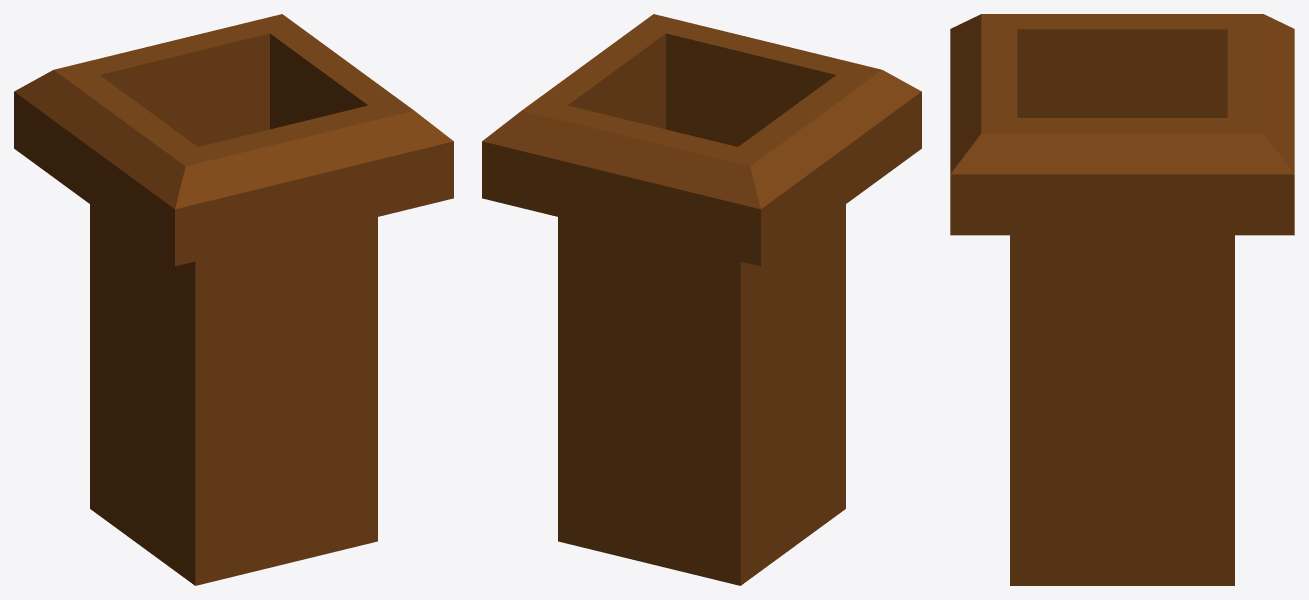
The model's file is Prop_Chimney_02.fbx.
The picture shows the model from 3 angles, left to right: view 1: azimuth 30°, elevation 25°; view 2: azimuth 150°, elevation 25°; view 3: azimuth 270°, elevation 25°; orthographic projection. The views are drawn at different scales.
Visible parts, largest first — view 1: Prop_Chimney_02; view 2: Prop_Chimney_02; view 3: Prop_Chimney_02.
Part boxes in pixels (bbox=[...]): Prop_Chimney_02: bbox=[14, 14, 453, 585]; Prop_Chimney_02: bbox=[482, 14, 921, 585]; Prop_Chimney_02: bbox=[950, 14, 1294, 585].
Bounding box in the file's own units: 64.49 × 96.12 × 64.49.
